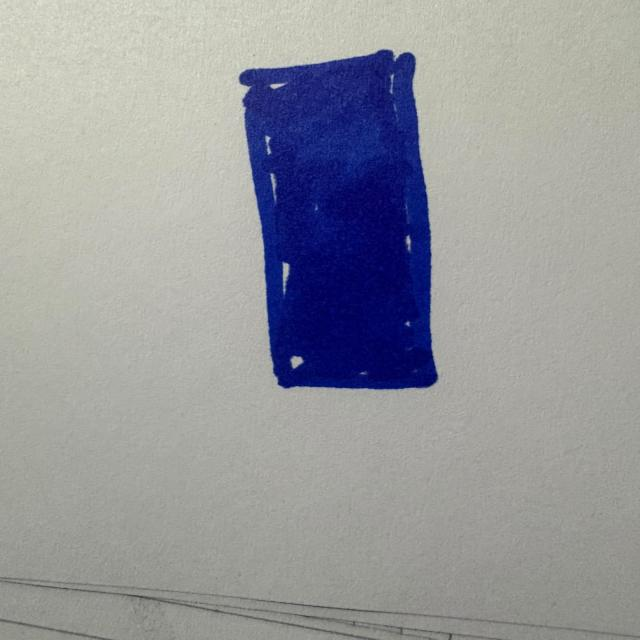Rectangle: (239, 50, 437, 390)
